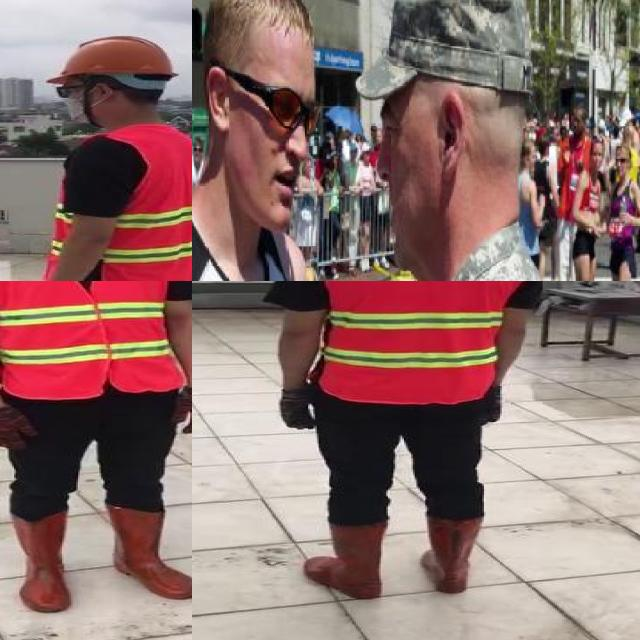boots: (106, 501, 192, 599), (7, 510, 76, 612), (303, 522, 388, 601), (420, 515, 488, 595)
face_nomask: (251, 85, 323, 214), (367, 112, 421, 255)
glasses: (256, 80, 318, 136)
hand_glove: (276, 385, 320, 430), (0, 407, 37, 450), (170, 387, 192, 434), (477, 389, 502, 425)
head_helmet: (45, 34, 177, 82)
head_nohelmet: (357, 0, 536, 102), (210, 0, 314, 48), (587, 134, 609, 153), (613, 145, 632, 156)
person: (264, 281, 545, 615), (0, 281, 192, 615), (351, 0, 578, 281), (13, 31, 192, 281), (192, 0, 340, 281), (607, 143, 639, 281), (579, 138, 602, 281)
vest: (322, 281, 526, 403), (44, 125, 192, 281), (0, 281, 175, 400)
